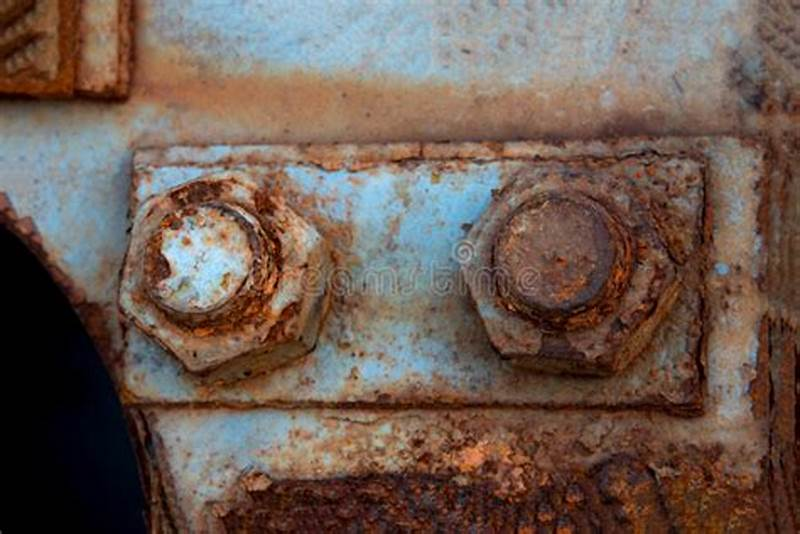bolt_b: (457, 160, 689, 381), (114, 168, 338, 389)
